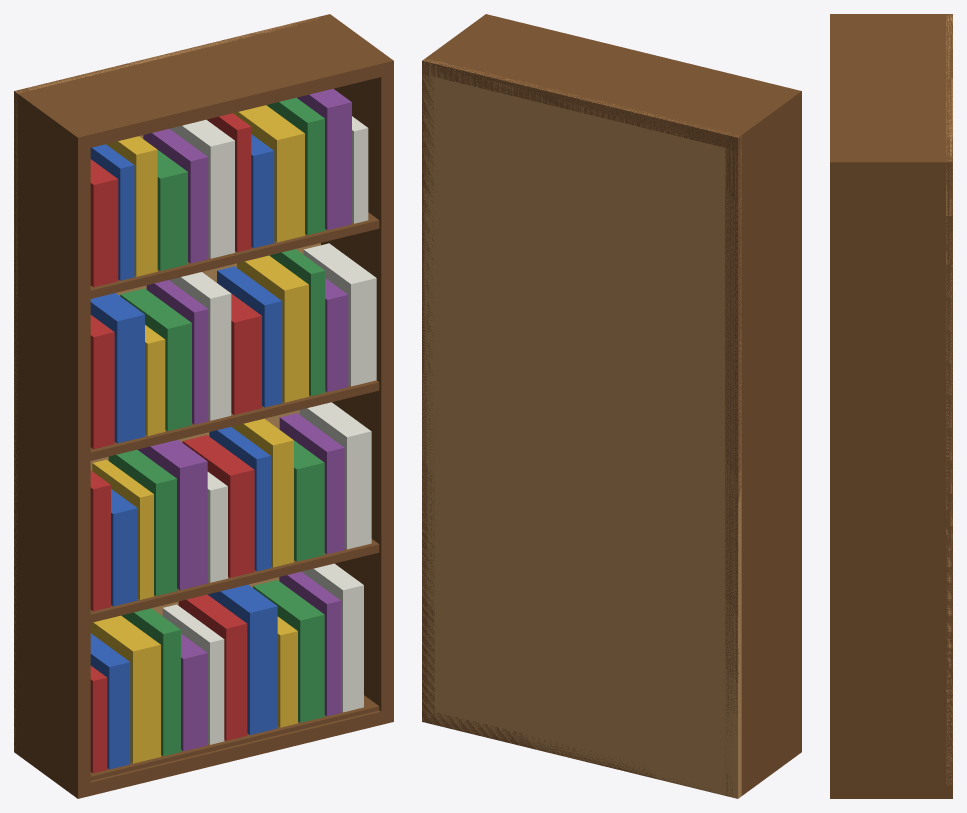
Rendered from p_shelf.glb.
3 renders of one model, left to right at view 1: azimuth 30°, elevation 25°; view 2: azimuth 150°, elevation 25°; view 3: azimuth 270°, elevation 25°, orthographic. The views are drawn at different scales.
Visible parts, largest first — view 1: shelf; view 2: shelf; view 3: shelf.
Boxes of the visible parts, x1,y1,x2,y2 form: shelf: (14,14,393,798); shelf: (422,14,801,798); shelf: (830,14,952,798).
Size of the model in its own units: 1 by 2 by 0.35.
